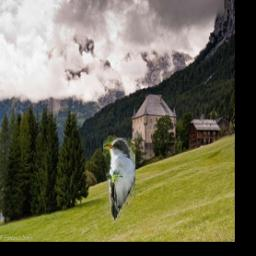Cuckoo: (104, 139, 136, 221)
